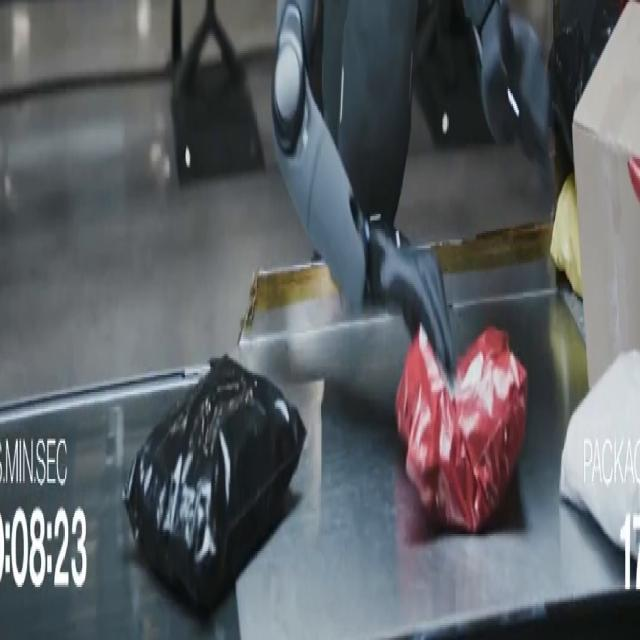package: (124, 357, 306, 612), (397, 329, 527, 534), (573, 3, 639, 385), (560, 350, 639, 557), (548, 0, 625, 163), (548, 22, 585, 163), (550, 174, 582, 296)
